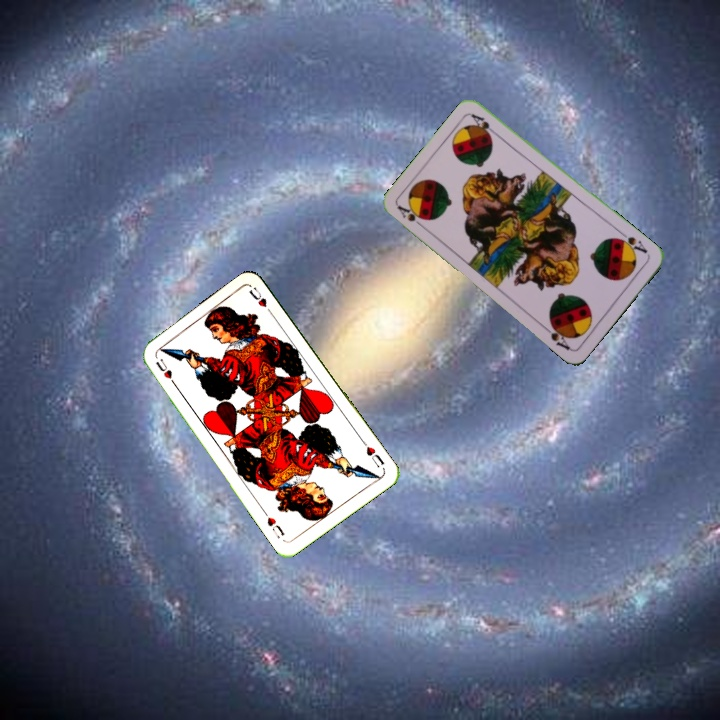HU: (358, 437, 387, 470), (151, 354, 175, 381)
SA: (393, 201, 428, 232), (613, 228, 650, 257)
